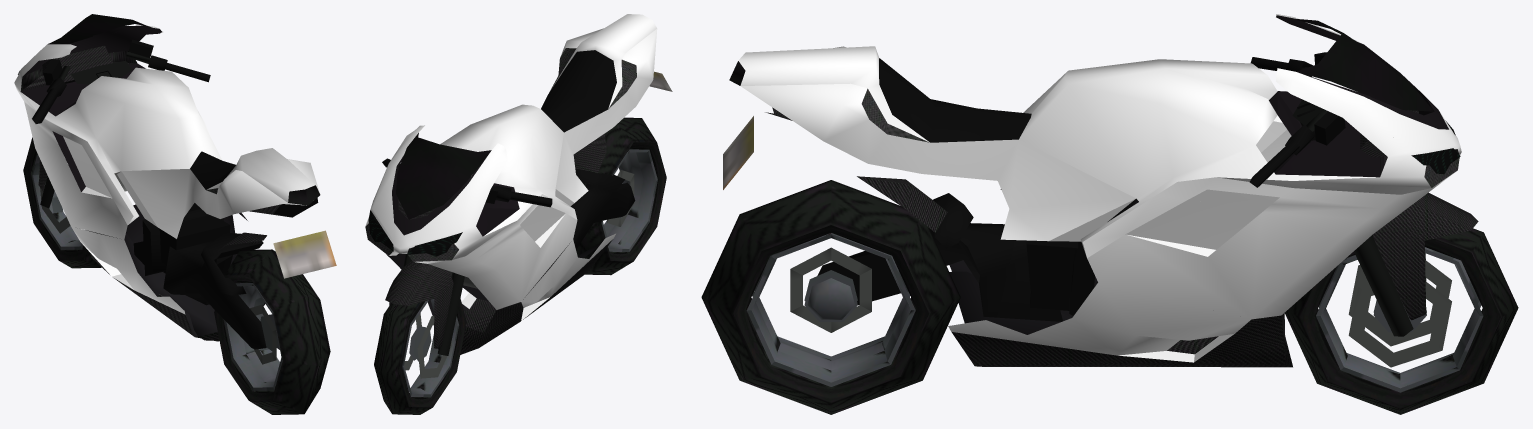
The model's file is bati.glb.
3 views of the same model, side by side, from view 1: azimuth 30°, elevation 25°; view 2: azimuth 150°, elevation 25°; view 3: azimuth 270°, elevation 25° (orthographic). The views are drawn at different scales.
Visible parts, largest first — view 1: chassis; view 2: chassis; view 3: chassis.
Part boxes in pixels (x1,y1,x2,y2): chassis: [14, 14, 336, 414]; chassis: [365, 14, 672, 414]; chassis: [701, 14, 1518, 414].
Size of the model in its own units: 0.7476 by 1.07 by 2.08.
Materials: 9 (9 with a texture image).
